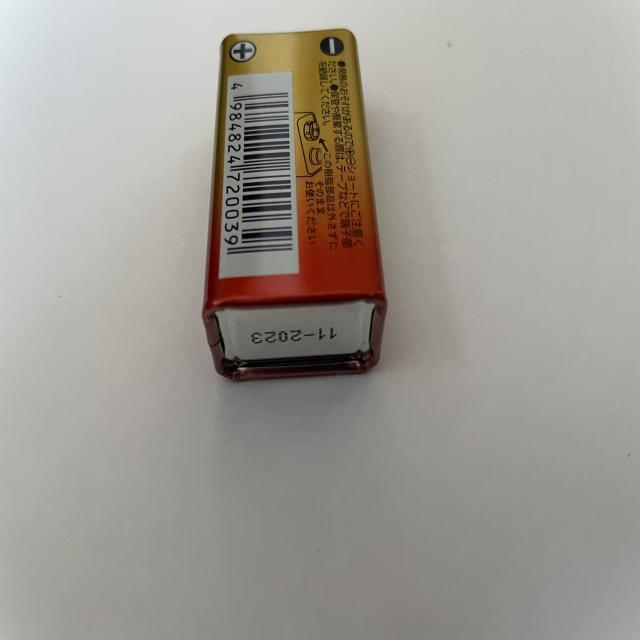9V: (203, 27, 389, 386)
